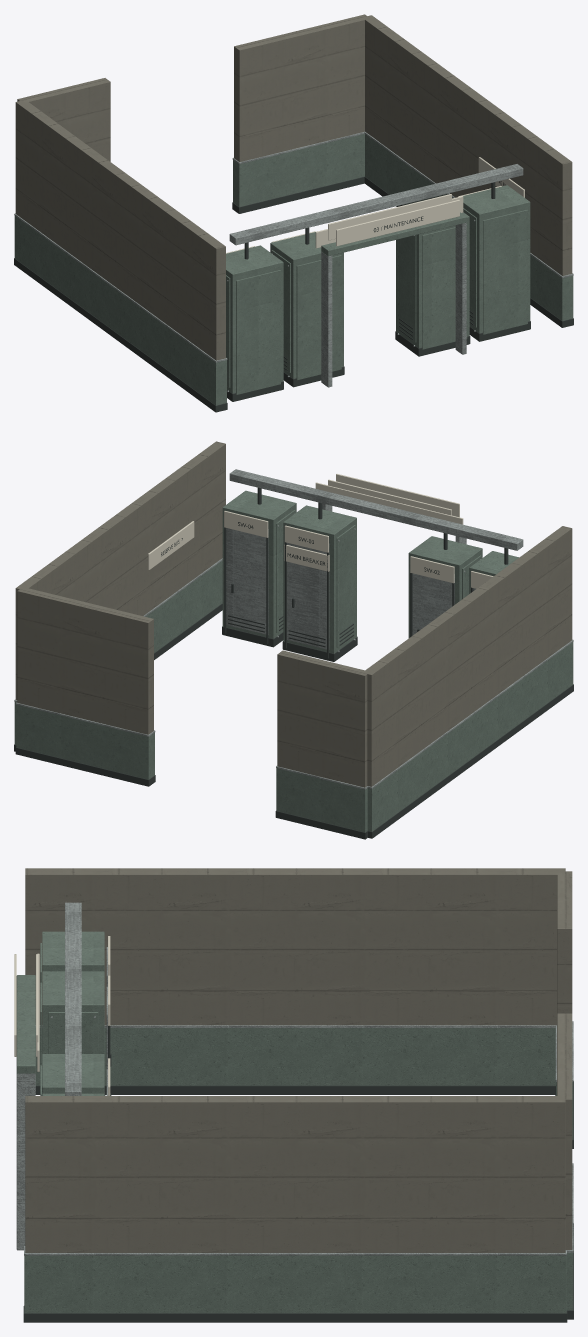
File: power_switchgear.glb
The picture shows the model from 3 angles, top to bottom: view 1: azimuth 30°, elevation 25°; view 2: azimuth 150°, elevation 25°; view 3: azimuth 270°, elevation 25°; orthographic projection. The views are drawn at different scales.
Visible parts, largest first — view 1: power_switchgear / power_plaster, power_switchgear / power_sage_enamel, power_switchgear / power_galvanized, power_switchgear / power_blackened_steel, power_switchgear / power_instrument_ivory; view 2: power_switchgear / power_plaster, power_switchgear / power_sage_enamel, power_switchgear / power_galvanized, power_switchgear / power_blackened_steel, power_switchgear / power_instrument_ivory; view 3: power_switchgear / power_plaster, power_switchgear / power_sage_enamel, power_switchgear / power_blackened_steel, power_switchgear / power_galvanized, power_switchgear / power_instrument_ivory.
Boxes of the visible parts, <box> form: power_switchgear / power_plaster: <box>15,14,572,360</box>; power_switchgear / power_sage_enamel: <box>14,133,573,405</box>; power_switchgear / power_galvanized: <box>14,131,573,392</box>; power_switchgear / power_blackened_steel: <box>14,176,573,412</box>; power_switchgear / power_instrument_ivory: <box>226,157,524,253</box>; power_switchgear / power_plaster: <box>15,441,572,787</box>; power_switchgear / power_sage_enamel: <box>14,490,573,832</box>; power_switchgear / power_galvanized: <box>14,469,573,789</box>; power_switchgear / power_blackened_steel: <box>14,487,573,839</box>; power_switchgear / power_instrument_ivory: <box>148,474,493,588</box>; power_switchgear / power_plaster: <box>25,868,572,1252</box>; power_switchgear / power_sage_enamel: <box>16,931,573,1313</box>; power_switchgear / power_blackened_steel: <box>23,1026,573,1322</box>; power_switchgear / power_galvanized: <box>16,902,573,1255</box>; power_switchgear / power_instrument_ivory: <box>14,936,110,1095</box>.
Bounding box in the file's own units: 8.27 × 3.61 × 8.32.
5 materials, 3 textured.
